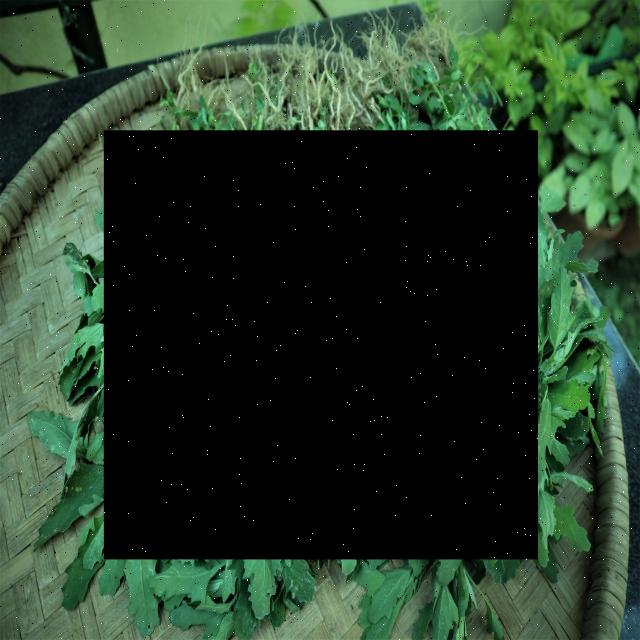Bethu_ko_Saag: (104, 130, 538, 560)
